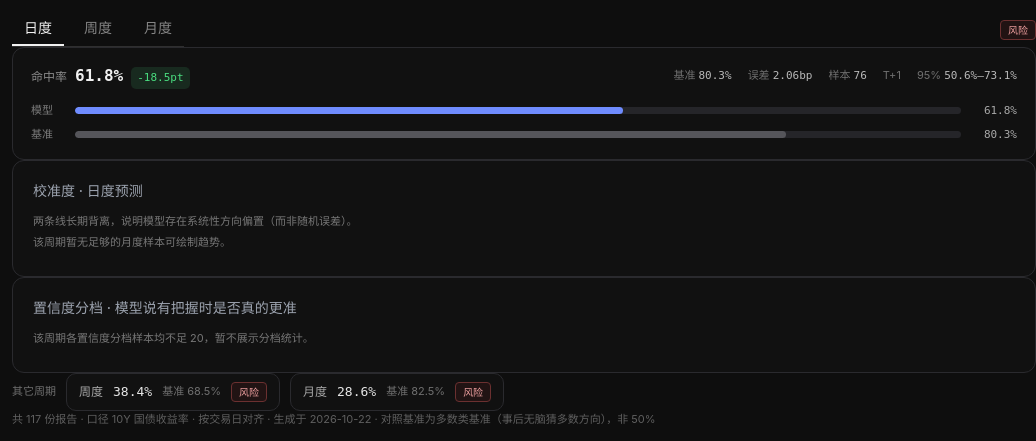
it: ForecastDiagnosis › 点击底部参照项也能切换周期
Expected: the button "月度" is shown, [132, 12, 184, 46]
底部参照项文本形如「月度 28.6% 基准 82.5% 风险」，按正则匹配
Click the button "月度 28.6% 基准 82.5% 风险" at (397, 392), box [290, 373, 504, 411]
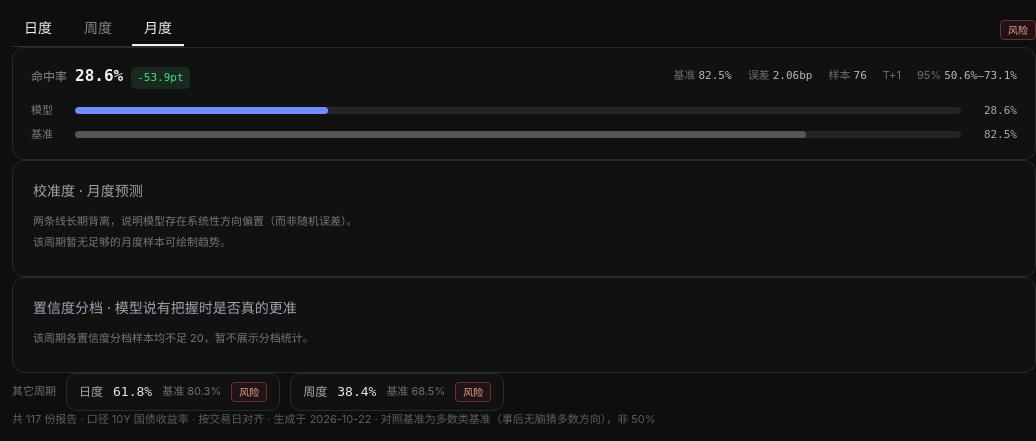
Now the text "82.5%" in the row of "2.06bp" is shown, box [698, 69, 732, 82]
